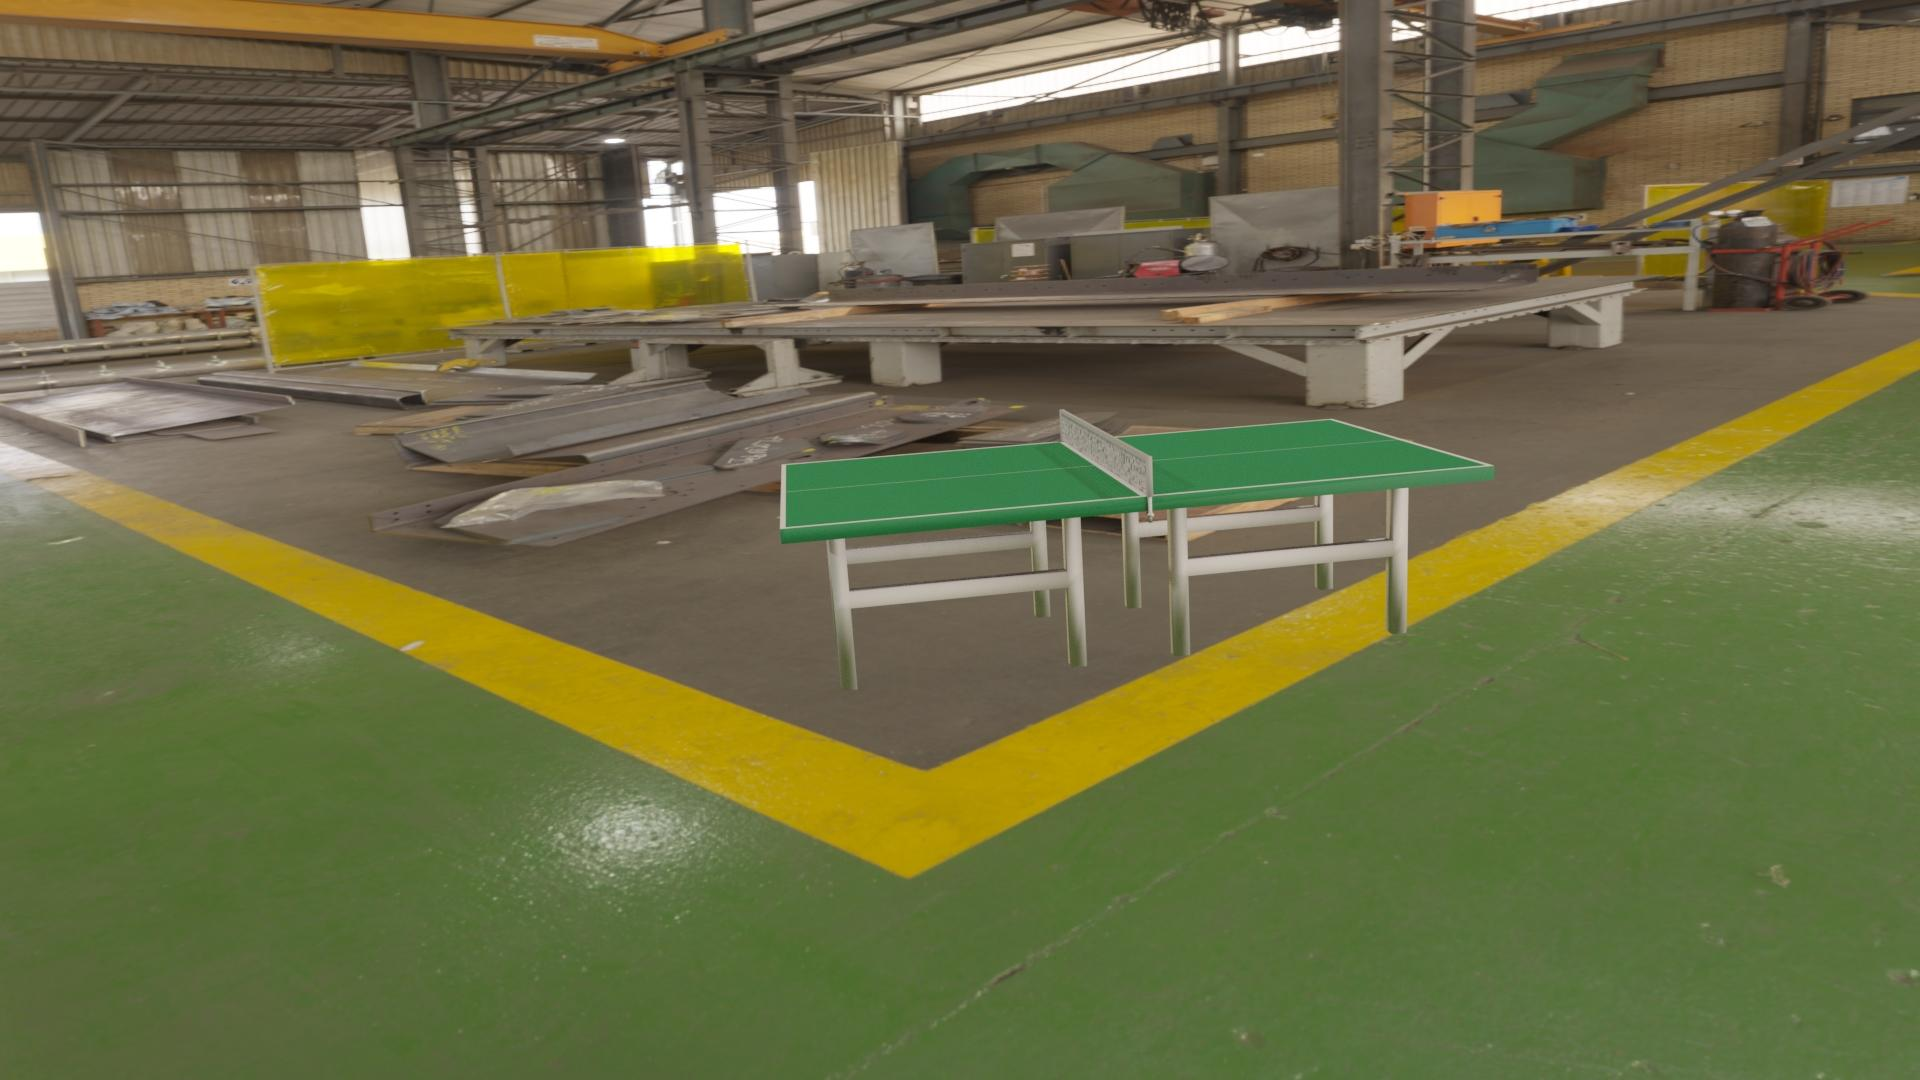table: (786, 419, 1486, 527)
